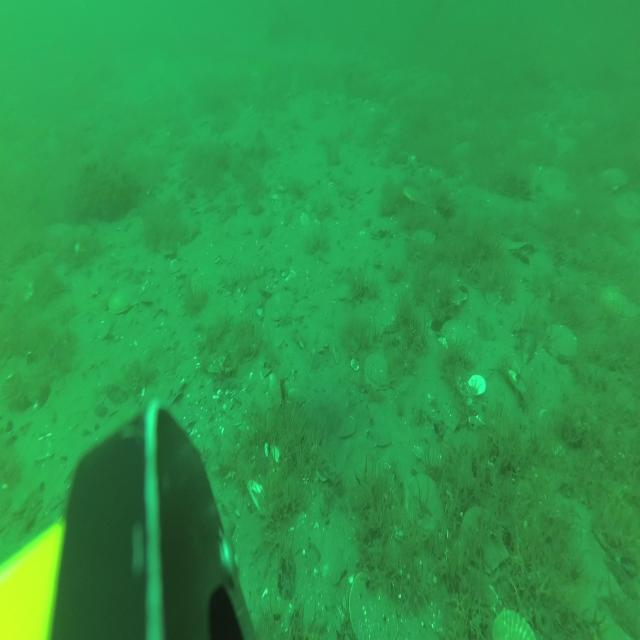scallop: (348, 568, 400, 640), (459, 502, 509, 574), (492, 605, 538, 640), (543, 318, 579, 362), (440, 318, 479, 352), (365, 352, 393, 394), (264, 288, 298, 322), (107, 283, 139, 317), (334, 270, 364, 304), (440, 278, 469, 310), (602, 163, 628, 194)
